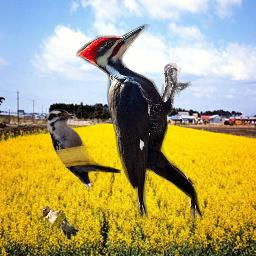Swallow: (41, 206, 79, 240)
Woodpecker: (76, 24, 204, 220), (47, 109, 121, 188)
